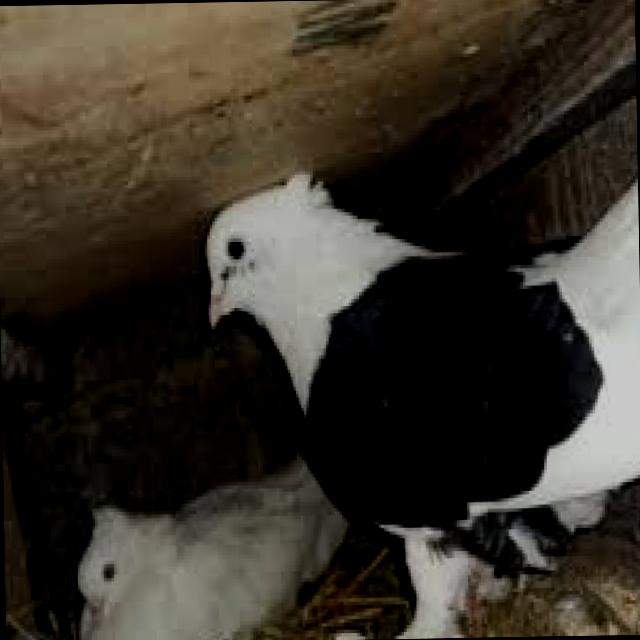bird: (199, 112, 640, 640), (67, 438, 333, 640)
